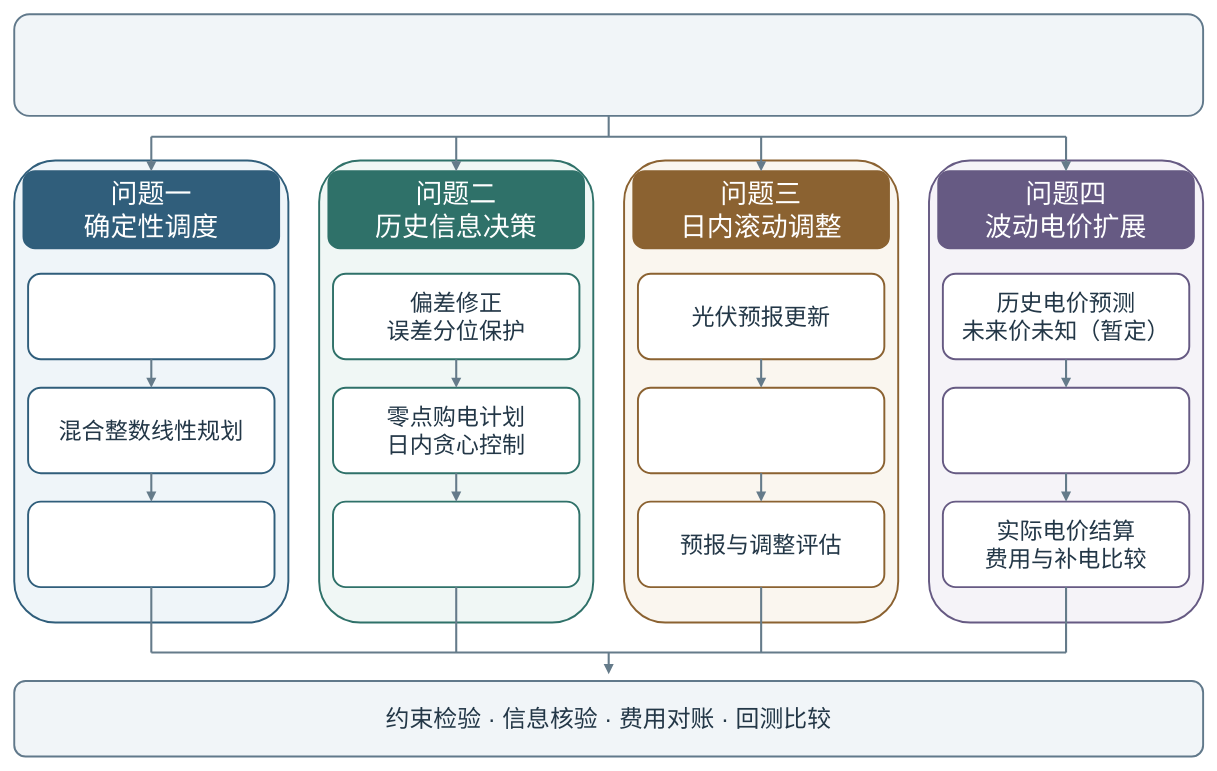
The diagram is 1217 pixels wide and 771 high, and some of its shapes have lost their labels. Each missing label, with the centre of its shape:
数据校验 · 时标统一 · 约束定义: the point at 608,65
滚动规划 购电增减计费: the point at 761,430
负载与光伏预测: the point at 151,316
购电与储能调度: the point at 151,544
费用与补电比较: the point at 456,544
重算第二、三问: the point at 1066,430
